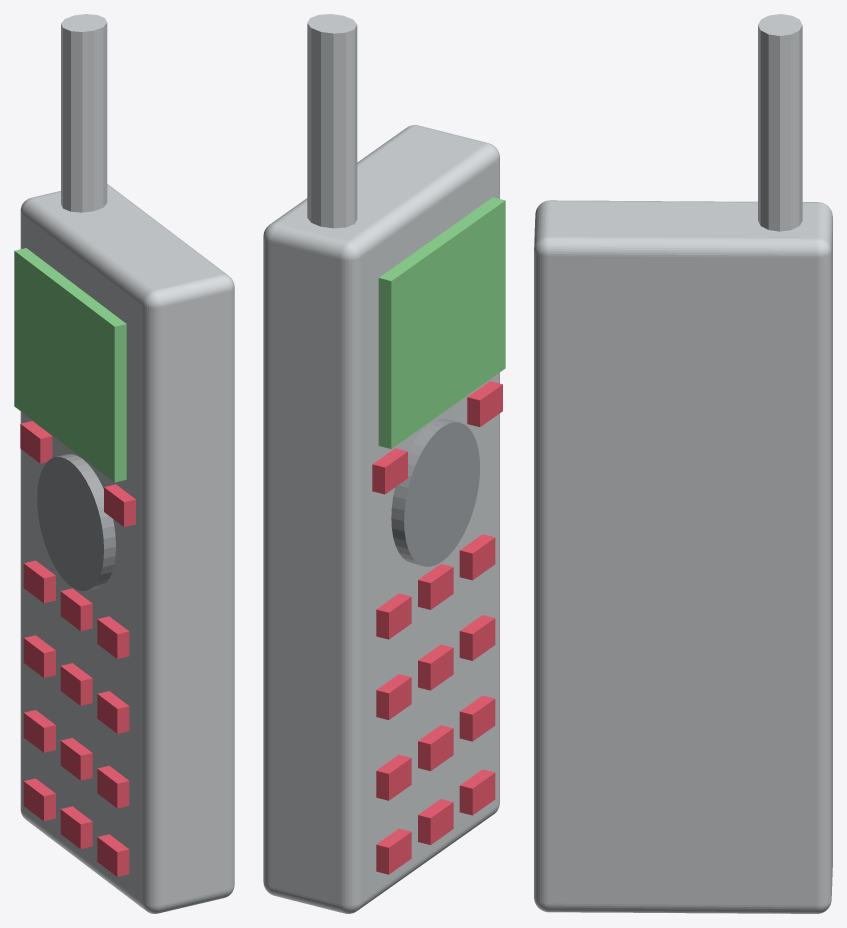
Rendered from CelularRetro.glb.
3 views of the same model, side by side, from view 1: azimuth 30°, elevation 25°; view 2: azimuth 150°, elevation 25°; view 3: azimuth 270°, elevation 25° (orthographic). The views are drawn at different scales.
Parts seen in each view (by area): view 1: obj_0.005; view 2: obj_0.005; view 3: obj_0.005.
Part boxes in pixels (bbox=[...]): obj_0.005: bbox=[14, 14, 234, 913]; obj_0.005: bbox=[263, 14, 505, 913]; obj_0.005: bbox=[534, 14, 832, 913].
Size of the model in its own units: 18.49 by 129 by 40.16.
